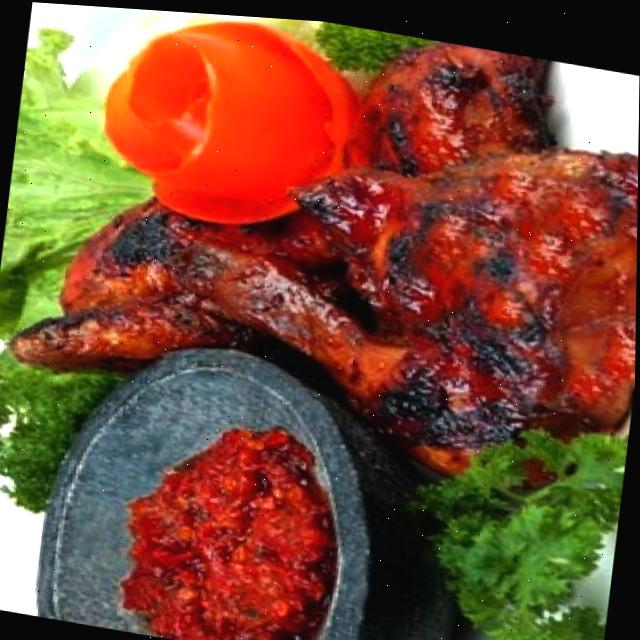鸡肉料理 含炸鸡: (2, 0, 640, 640)
